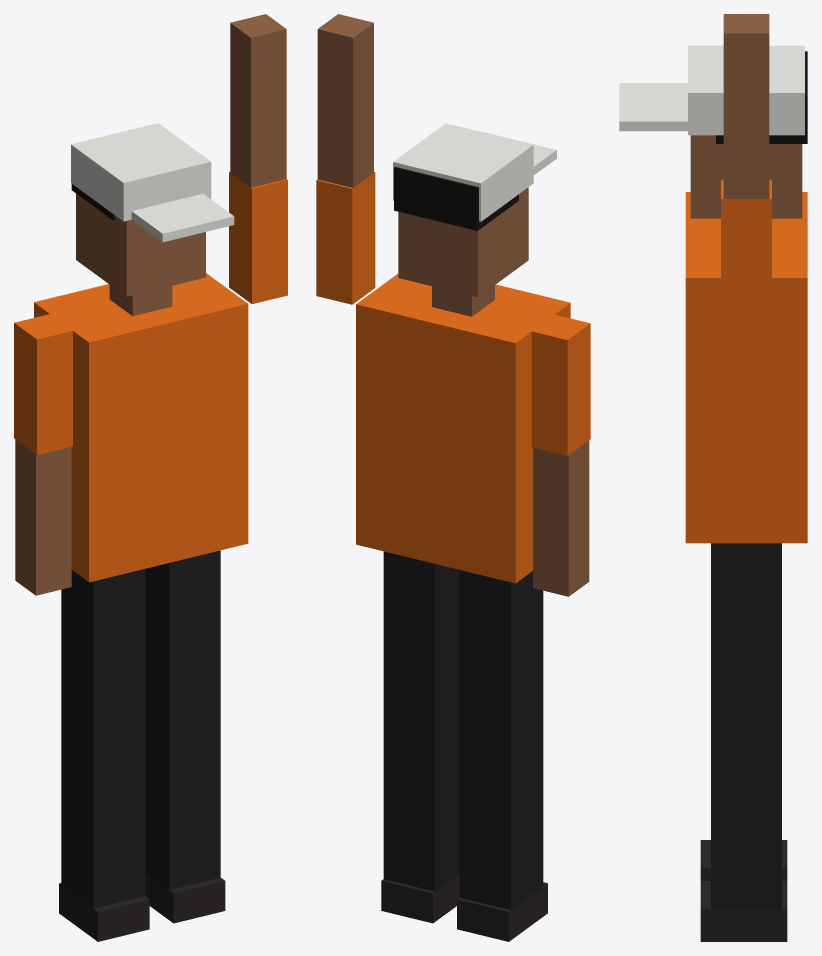
File: fan_g.dae
The picture shows the model from 3 angles, left to right: view 1: azimuth 30°, elevation 25°; view 2: azimuth 150°, elevation 25°; view 3: azimuth 270°, elevation 25°; orthographic projection. The views are drawn at different scales.
Visible parts, largest first — view 1: marker; view 2: marker; view 3: marker.
Part boxes in pixels (left/top/right/bottom): marker: left=14, top=14, right=287, bottom=941; marker: left=316, top=14, right=590, bottom=941; marker: left=619, top=14, right=807, bottom=941.
Bounding box in the file's own units: 0.63 × 0.37 × 2.06.
